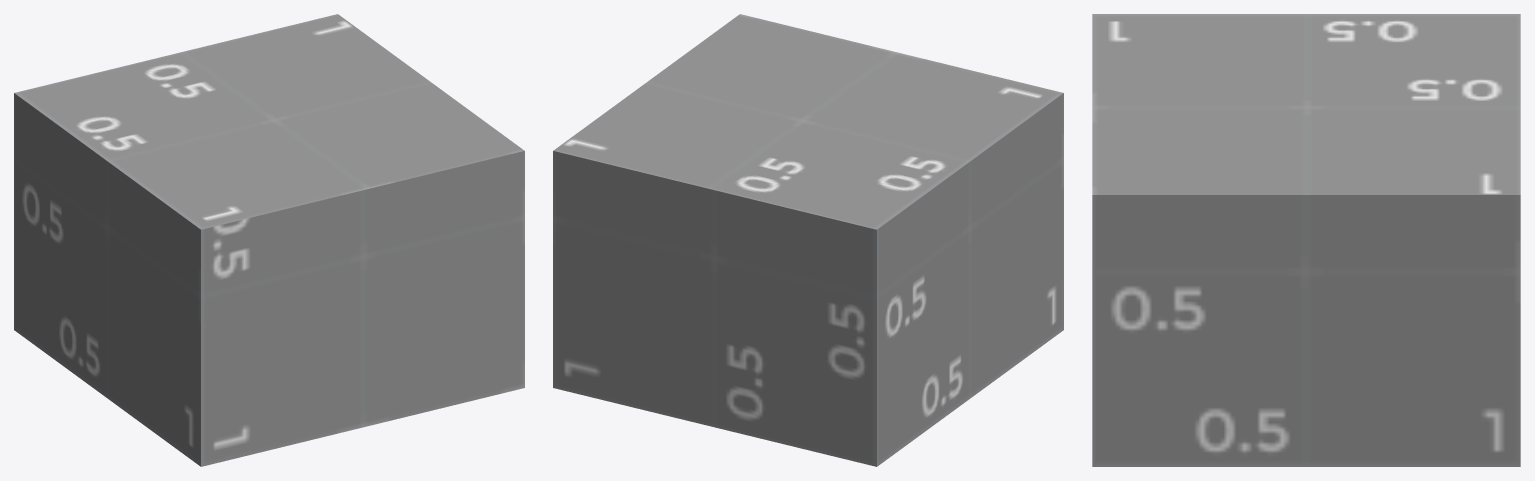
3 views of the same model, side by side, from view 1: azimuth 30°, elevation 25°; view 2: azimuth 150°, elevation 25°; view 3: azimuth 270°, elevation 25° (orthographic). The views are drawn at different scales.
Visible parts, largest first — view 1: Cube_1_7; view 2: Cube_1_7; view 3: Cube_1_7.
Boxes of the visible parts, x1,y1,x2,y2 form: Cube_1_7: (14,14,524,466); Cube_1_7: (553,14,1063,466); Cube_1_7: (1092,14,1520,466).
Bounding box in the file's own units: 1 × 0.7 × 1.
